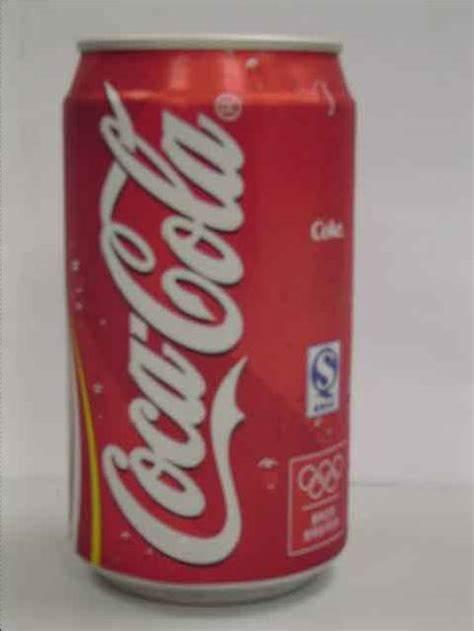metal: (64, 39, 354, 602)
